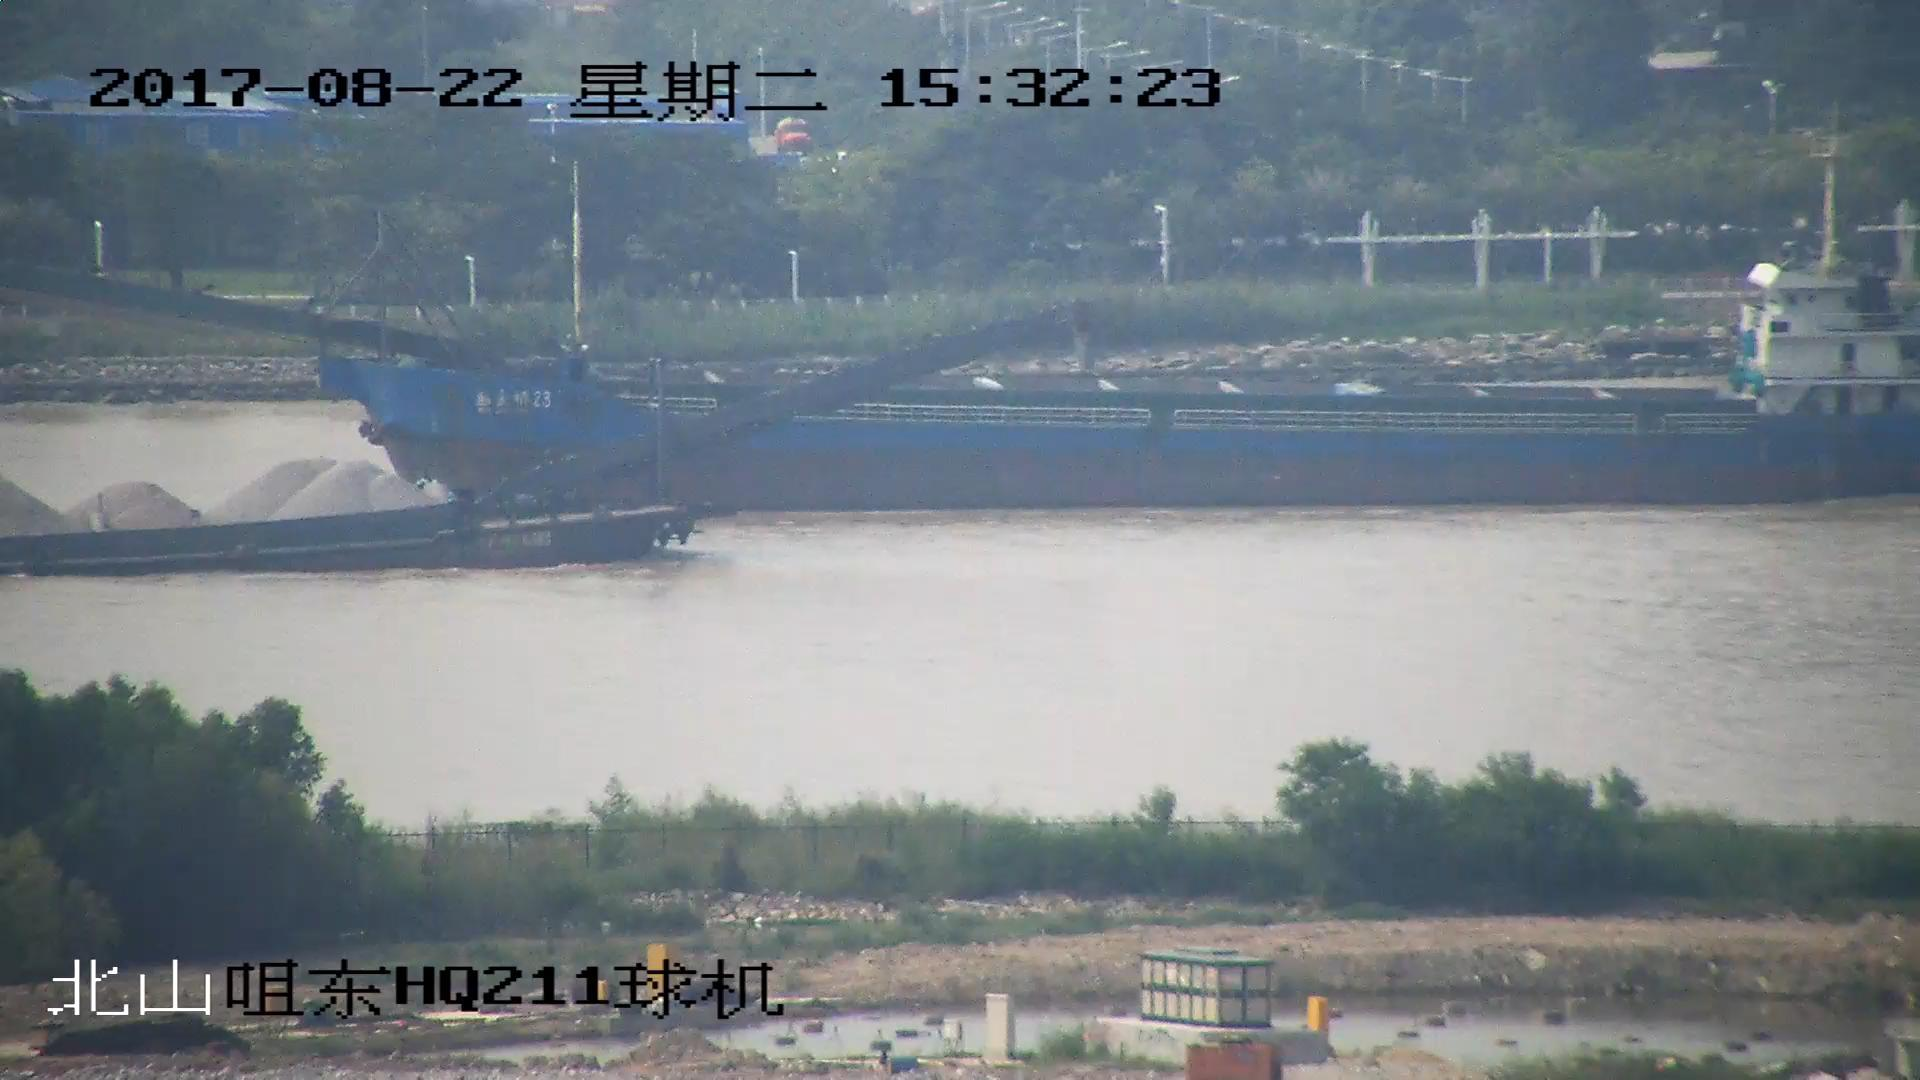Ship: (3, 136, 1920, 512), (3, 306, 1087, 578)
